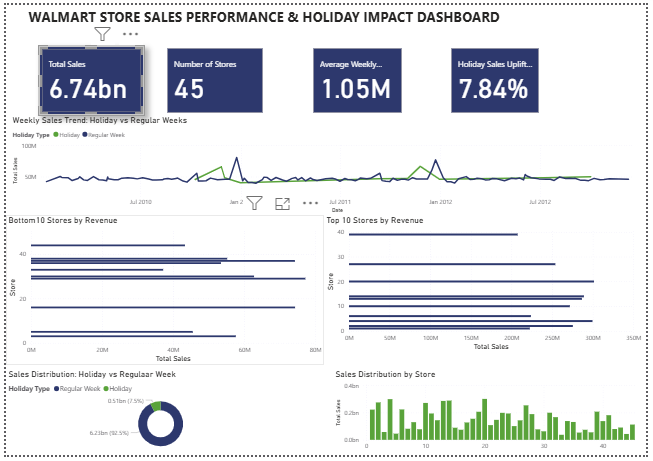

The page's visual inventory and layout, read from the dashboard file:
{"tool":"powerbi","page":{"name":"Page 1","canvas":[1280,900],"ordinal":0},"visuals":[{"type":"qnaVisual","box":[460,220,300,300],"z":0},{"type":"tableEx","box":[160,420,300,300],"z":1000},{"type":"lineChart","title":"Weekly Sales Trend: Holiday vs Regular Weeks","fields":{"Category":["Raw data.Date"],"Y":["Raw data.Total Sales"],"Series":["Raw data.Holiday Type"]},"box":[8,220,1264,200],"z":2000},{"type":"cardVisual","fields":{"Data":["Raw data.Number of Stores"]},"box":[318,82,200,138],"z":3000},{"type":"clusteredBarChart","title":"Bottom10 Stores by Revenue","fields":{"Category":["Raw data.Store"],"Y":["Raw data.Total Sales"]},"box":[0,420,636,300],"z":4000},{"type":"cardVisual","fields":{"Data":["Raw data.Total Sales"]},"box":[66,82,188,138],"z":5000},{"type":"cardVisual","fields":{"Data":["Raw data.Holiday Sales Uplift %"]},"box":[886,82,184,138],"z":6000},{"type":"textbox","box":[0,0,1280,66],"z":7000},{"type":"clusteredBarChart","title":"Top 10 Stores by Revenue","fields":{"Category":["Raw data.Store"],"Y":["Raw data.Total Sales"]},"box":[636,420,640,276],"z":8000},{"type":"cardVisual","fields":{"Data":["Raw data.Average Weekly Sales"]},"box":[610,82,186,138],"z":9000},{"type":"donutChart","title":"Sales Distribution: Holiday vs Regulaar Week","fields":{"Category":["Raw data.Holiday Type"],"Y":["Raw data.Total Sales"]},"box":[0,728.3,618.3,171.7],"z":10000},{"type":"clusteredColumnChart","title":"Sales Distribution by Store","fields":{"Category":["Raw data.Store"],"Y":["Raw data.Total Sales"]},"box":[653.3,728.3,611.7,171.7],"z":11000}]}

Visuals, with their boxes in screenshot pixels (x1, y1, x2, y2), scaled from the page's 1280x900 canvas onto the 653x461 screenshot:
qnaVisual: x1=235, y1=113, x2=388, y2=266
tableEx: x1=82, y1=215, x2=235, y2=369
"Weekly Sales Trend: Holiday vs Regular Weeks" lineChart: x1=4, y1=113, x2=649, y2=215
cardVisual - Raw data.Number of Stores: x1=162, y1=42, x2=264, y2=113
"Bottom10 Stores by Revenue" clusteredBarChart: x1=0, y1=215, x2=324, y2=369
cardVisual - Raw data.Total Sales: x1=34, y1=42, x2=130, y2=113
cardVisual - Raw data.Holiday Sales Uplift %: x1=452, y1=42, x2=546, y2=113
textbox: x1=0, y1=0, x2=652, y2=34
"Top 10 Stores by Revenue" clusteredBarChart: x1=324, y1=215, x2=651, y2=357
cardVisual - Raw data.Average Weekly Sales: x1=311, y1=42, x2=406, y2=113
"Sales Distribution: Holiday vs Regulaar Week" donutChart: x1=0, y1=373, x2=315, y2=460
"Sales Distribution by Store" clusteredColumnChart: x1=333, y1=373, x2=645, y2=460
